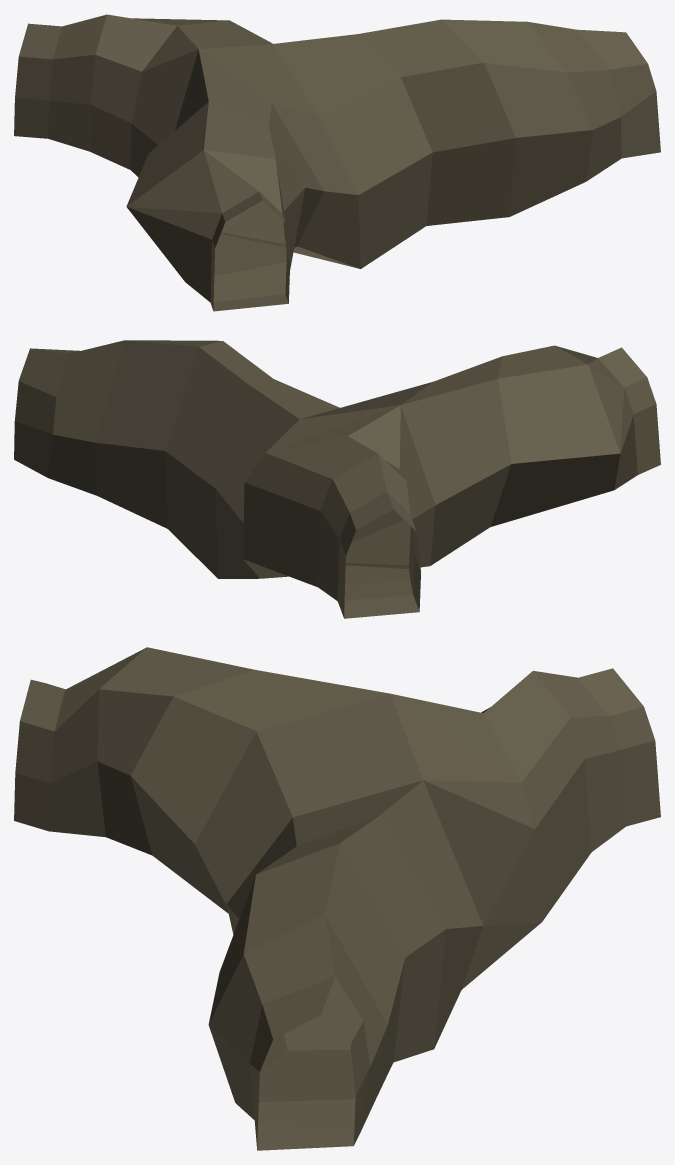
Rendered from Tunnel-Y03.fbx.
3 renders of one model, top to bottom at view 1: azimuth 30°, elevation 25°; view 2: azimuth 150°, elevation 25°; view 3: azimuth 270°, elevation 25°, orthographic. The views are drawn at different scales.
Visible parts, largest first — view 1: Tunnel-Y03; view 2: Tunnel-Y03; view 3: Tunnel-Y03.
Part boxes in pixels (<box>): Tunnel-Y03: <box>14,14,660,311</box>; Tunnel-Y03: <box>14,340,660,618</box>; Tunnel-Y03: <box>14,647,660,1150</box>.
Bounding box in the file's own units: 1128 × 1405 × 501.
